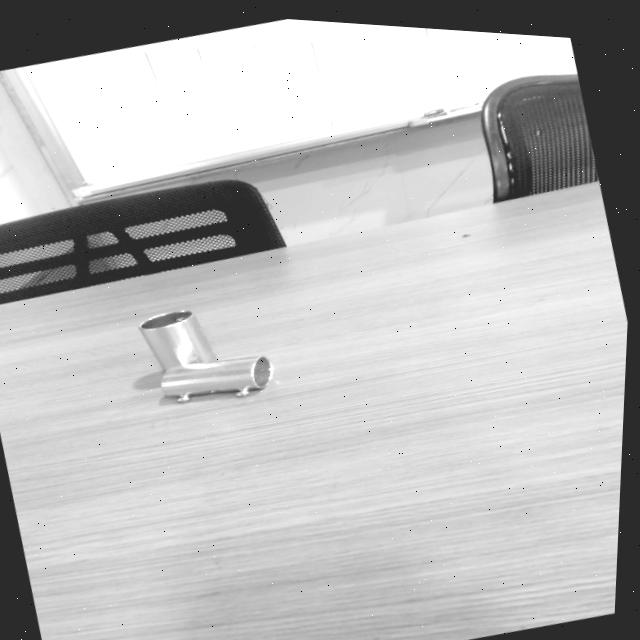Co_Lon: (135, 299, 216, 384)
Co_Nho: (158, 354, 273, 398)
